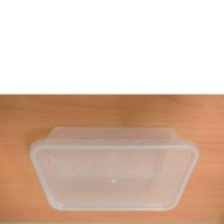plastic_box: (21, 119, 205, 218)
